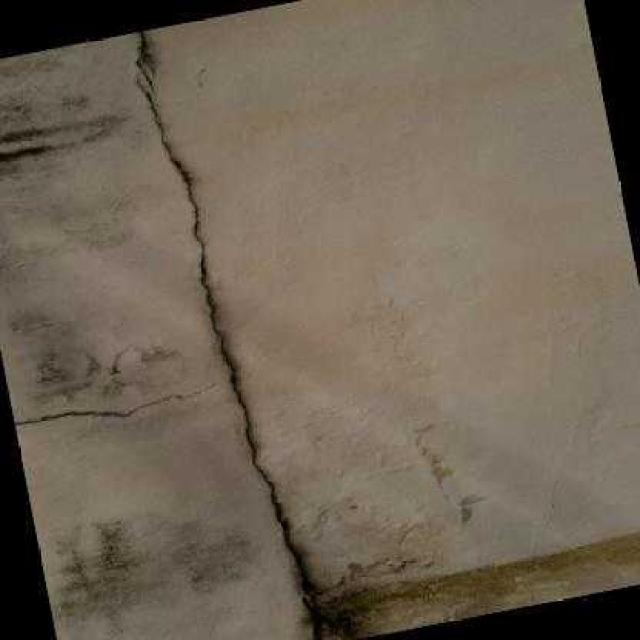D00: (133, 76, 322, 640), (13, 381, 214, 425), (134, 28, 153, 74)
